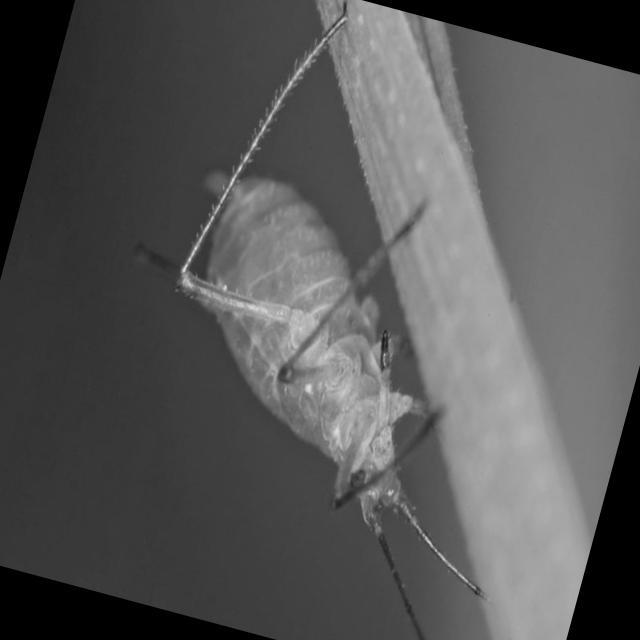Aphids: (38, 0, 623, 640)
